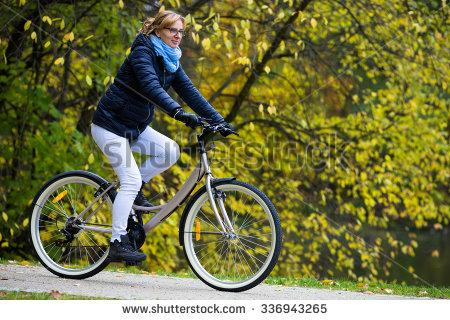bikerider: (14, 6, 292, 296)
